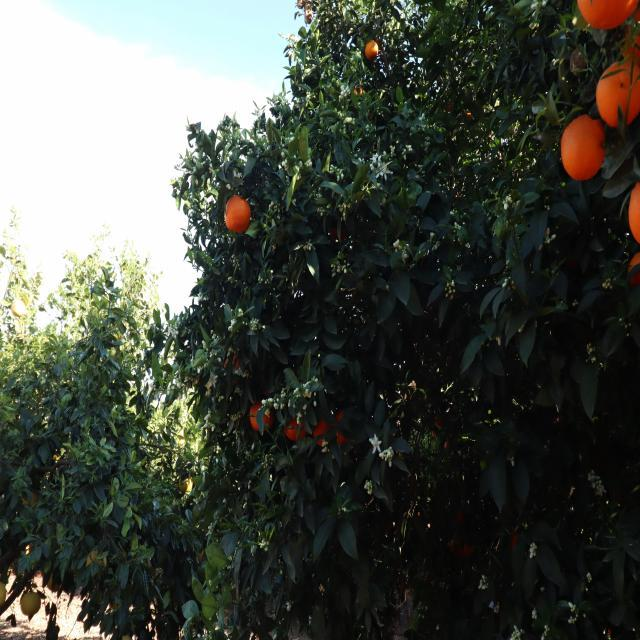Bunga: (369, 434, 382, 455), (378, 166, 390, 179), (364, 478, 373, 494), (372, 152, 382, 166), (168, 324, 178, 338), (386, 449, 394, 466), (208, 372, 216, 386), (530, 544, 537, 560), (340, 85, 350, 96), (204, 421, 215, 431), (504, 197, 512, 210), (336, 168, 344, 180), (478, 578, 486, 590), (228, 319, 235, 332), (251, 318, 258, 331), (204, 410, 212, 420), (282, 159, 288, 171), (262, 398, 273, 404), (304, 389, 312, 397), (174, 317, 182, 325), (294, 388, 300, 398), (297, 412, 302, 424), (306, 160, 312, 168), (390, 144, 394, 156), (407, 144, 413, 152), (247, 150, 254, 156), (274, 402, 278, 410)
Jeruk Sudah Matang: (559, 112, 605, 182), (596, 69, 636, 131), (578, 0, 635, 29), (224, 196, 251, 233), (629, 194, 640, 240), (248, 404, 264, 432), (283, 421, 304, 441), (316, 419, 332, 438), (365, 40, 380, 60), (262, 408, 276, 427), (353, 84, 370, 98), (336, 430, 348, 446), (337, 409, 348, 422)
